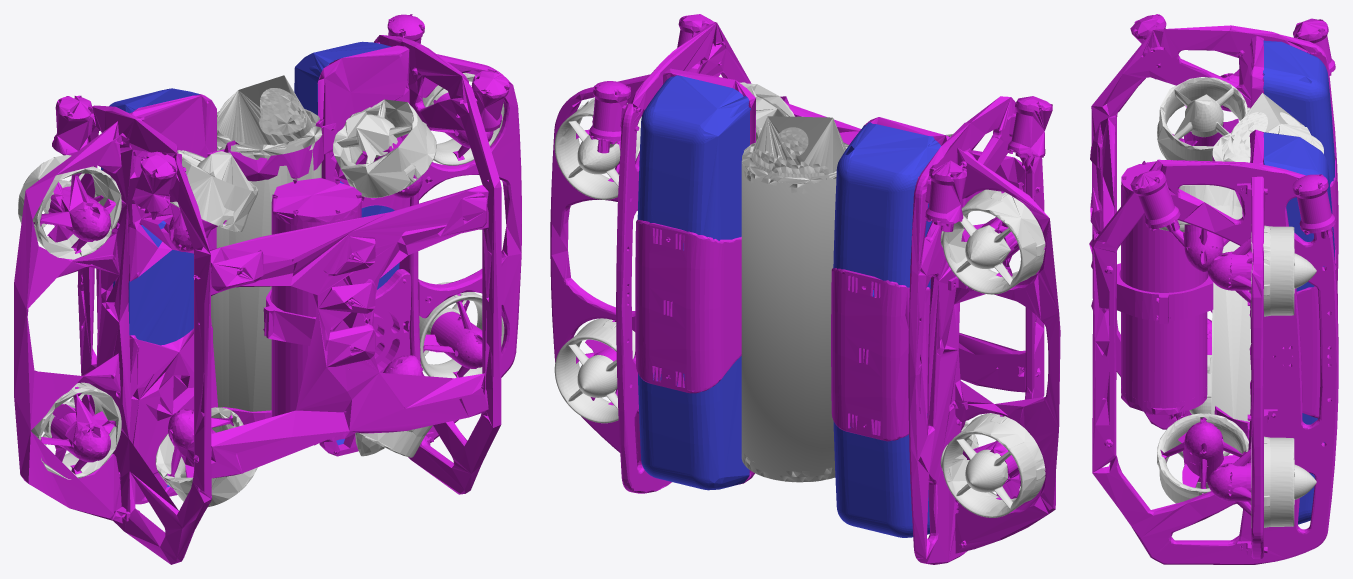
Rendered from bluerovheavy2.fbx.
3 views of the same model, side by side, from view 1: azimuth 30°, elevation 25°; view 2: azimuth 150°, elevation 25°; view 3: azimuth 270°, elevation 25° (orthographic). The views are drawn at different scales.
Visible parts, largest first — view 1: BROV2-HEAVY-ASM-BROV2-HEAVY-R1.001; view 2: BROV2-HEAVY-ASM-BROV2-HEAVY-R1.001; view 3: BROV2-HEAVY-ASM-BROV2-HEAVY-R1.001.
Part boxes in pixels (<box>): BROV2-HEAVY-ASM-BROV2-HEAVY-R1.001: <box>14,14,521,564</box>; BROV2-HEAVY-ASM-BROV2-HEAVY-R1.001: <box>550,14,1060,564</box>; BROV2-HEAVY-ASM-BROV2-HEAVY-R1.001: <box>1089,14,1338,564</box>.
Bounding box in the file's own units: 57308 × 45833 × 25719.
